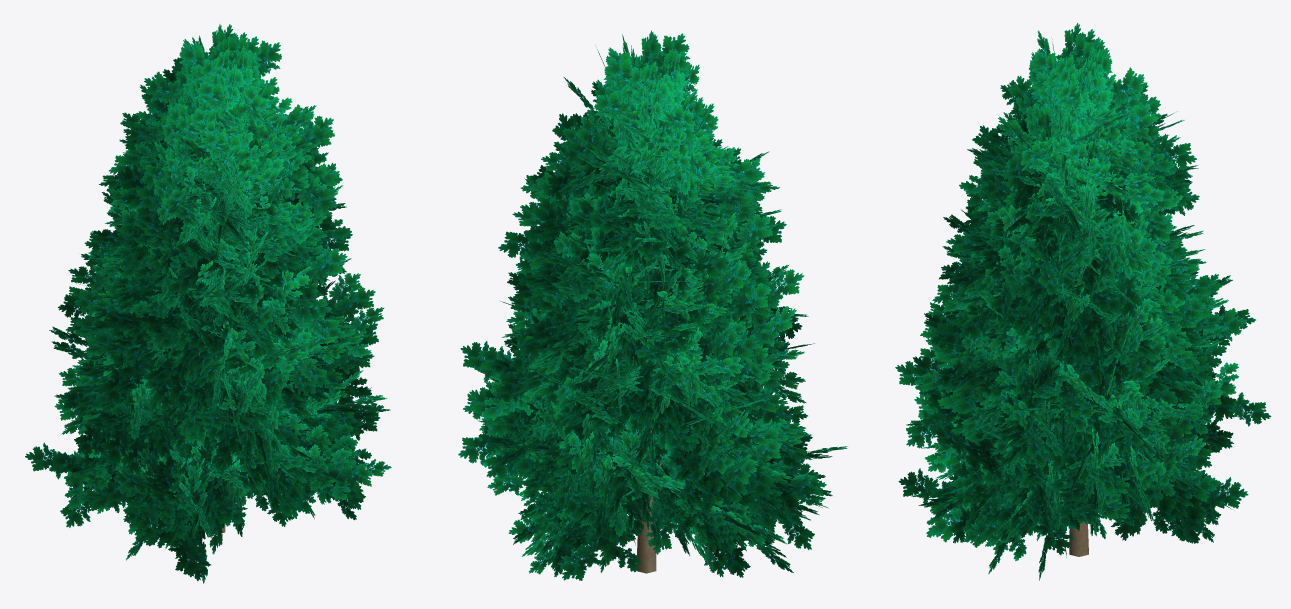
Rendered from tree_LOD1.gltf.
3 views of the same model, side by side, from view 1: azimuth 30°, elevation 25°; view 2: azimuth 150°, elevation 25°; view 3: azimuth 270°, elevation 25° (orthographic). The views are drawn at different scales.
Visible parts, largest first — view 1: Leaves_LOD1; view 2: Leaves_LOD1, Branches_LOD1; view 3: Leaves_LOD1, Branches_LOD1.
Boxes of the visible parts, x1,y1,x2,y2 form: Leaves_LOD1: (25, 24, 391, 583); Leaves_LOD1: (458, 30, 847, 580); Branches_LOD1: (636, 433, 665, 573); Leaves_LOD1: (895, 23, 1271, 580); Branches_LOD1: (1069, 516, 1088, 556).
Size of the model in its own units: 44.24 by 66.17 by 44.15.
Materials: 2 (2 with a texture image).
